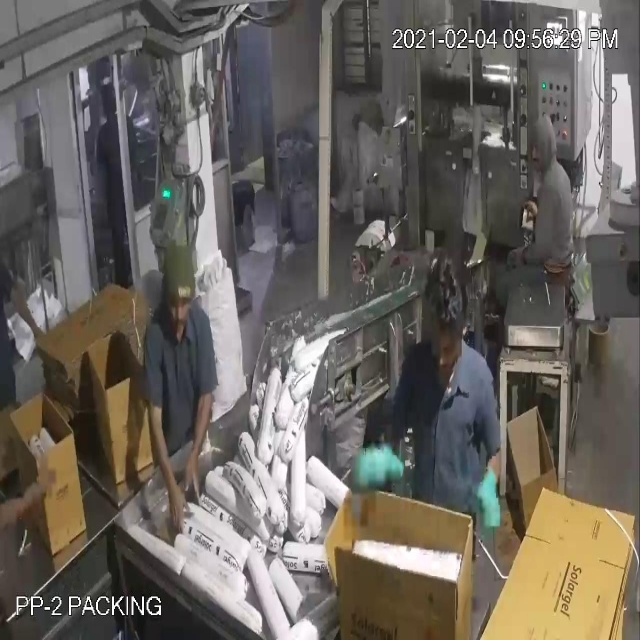Guantes: (344, 424, 416, 504), (464, 460, 511, 547)
Sin_guantes: (132, 380, 187, 538), (181, 380, 222, 520), (1, 459, 60, 535), (5, 274, 46, 356)
